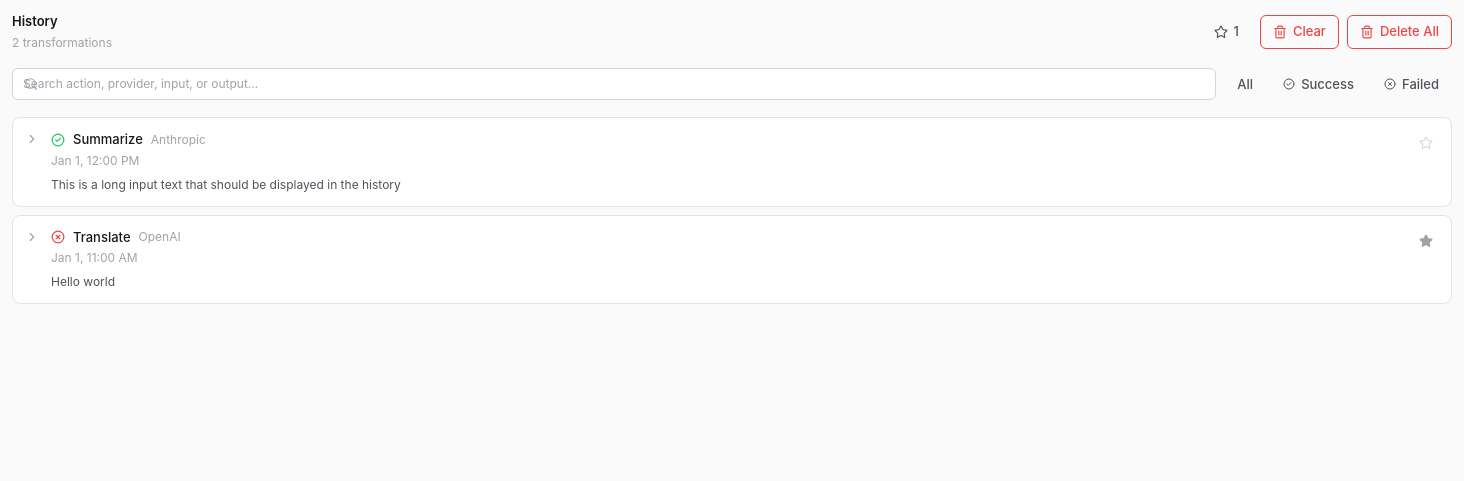
Test case: HistoryList › expands entry when clicked
Expected: the text "Summarize" is shown, [73, 130, 143, 150]
Click the text "Summarize".
click(128, 139)  # box [51, 131, 206, 147]
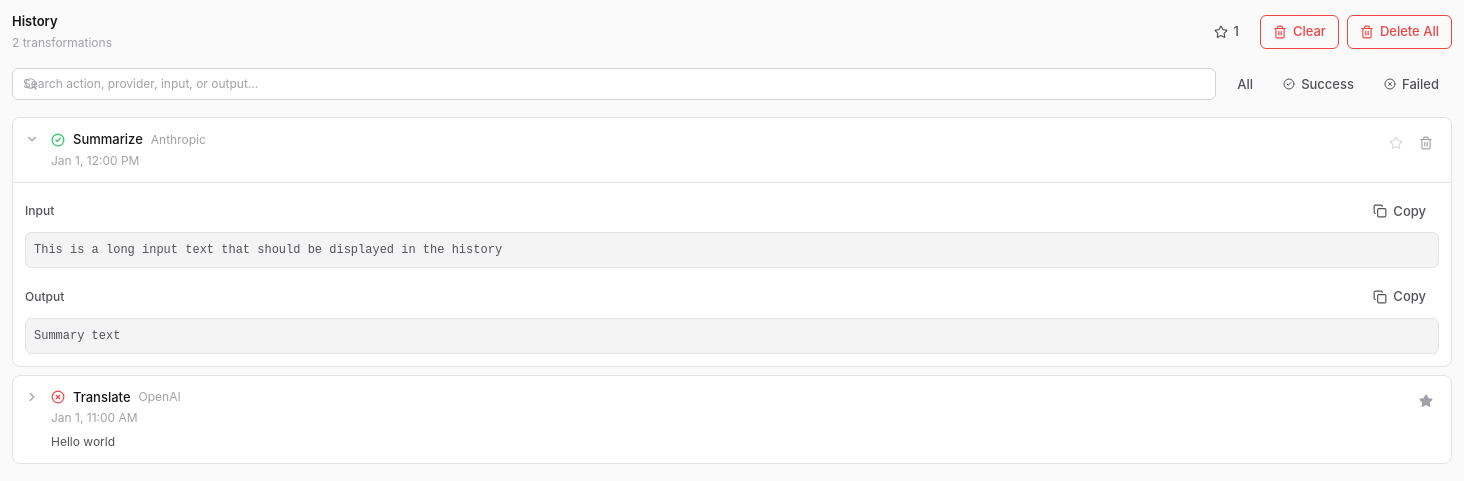
Result: the text "Summary text" is shown at [25, 318, 1439, 354]
